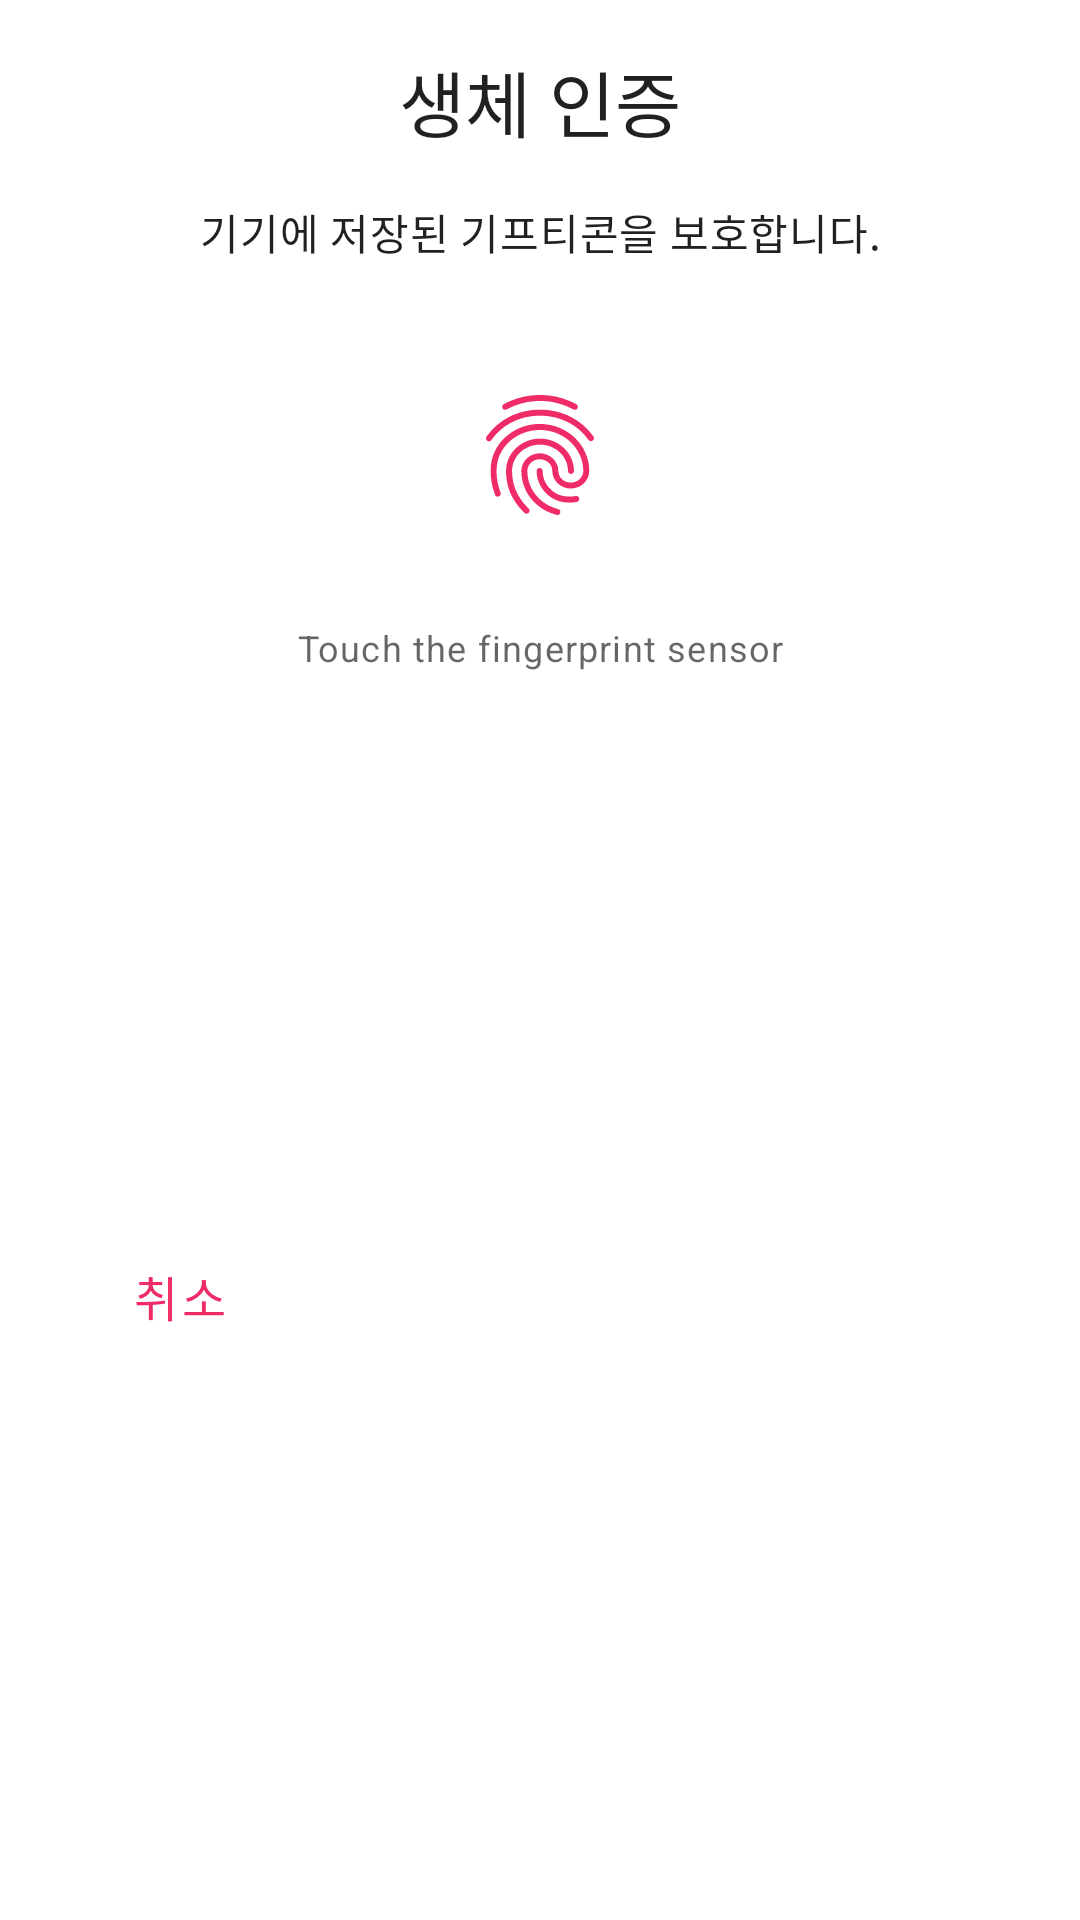

Icons on this 1080 × 1920 Android screen, each with its box as (x1, y1, x2, y2):
생체 인증: (486, 395, 594, 515)
